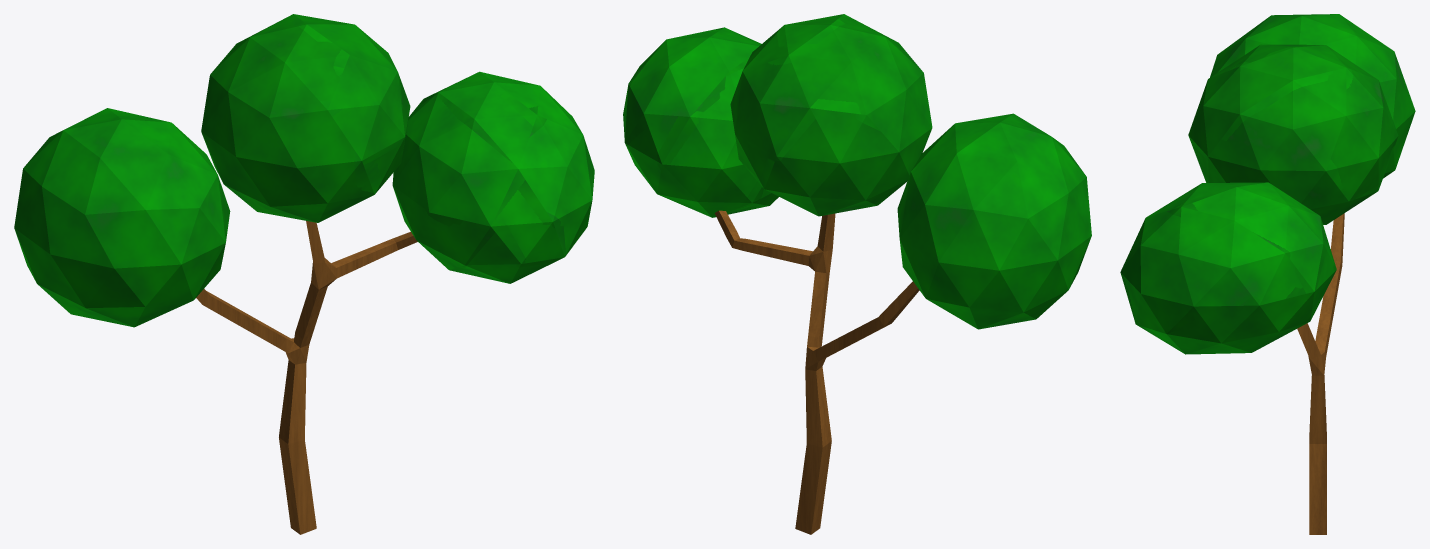
The model's file is BranchTree.fbx.
The picture shows the model from 3 angles, left to right: view 1: azimuth 30°, elevation 25°; view 2: azimuth 150°, elevation 25°; view 3: azimuth 270°, elevation 25°; orthographic projection. The views are drawn at different scales.
Parts seen in each view (by area): view 1: Leaf01, Leaf02, Leaf03, Tree; view 2: Leaf01, Leaf02, Leaf03, Tree; view 3: Leaf03, Leaf02, Leaf01, Tree.
Part boxes in pixels (x1=…): Leaf01: x1=14, y1=108, x2=230, y2=327; Leaf02: x1=201, y1=14, x2=410, y2=222; Leaf03: x1=392, y1=71, x2=594, y2=283; Tree: x1=196, y1=221, x2=417, y2=534; Leaf01: x1=897, y1=113, x2=1091, y2=329; Leaf02: x1=730, y1=14, x2=932, y2=216; Leaf03: x1=623, y1=27, x2=778, y2=217; Tree: x1=714, y1=210, x2=919, y2=534; Leaf03: x1=1120, y1=182, x2=1336, y2=354; Leaf02: x1=1188, y1=44, x2=1398, y2=224; Leaf01: x1=1210, y1=14, x2=1415, y2=178; Tree: x1=1297, y1=213, x2=1344, y2=534.
Size of the model in its own units: 191 by 190 by 106.
